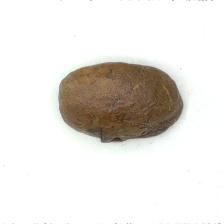NG: (91, 122, 135, 147)
